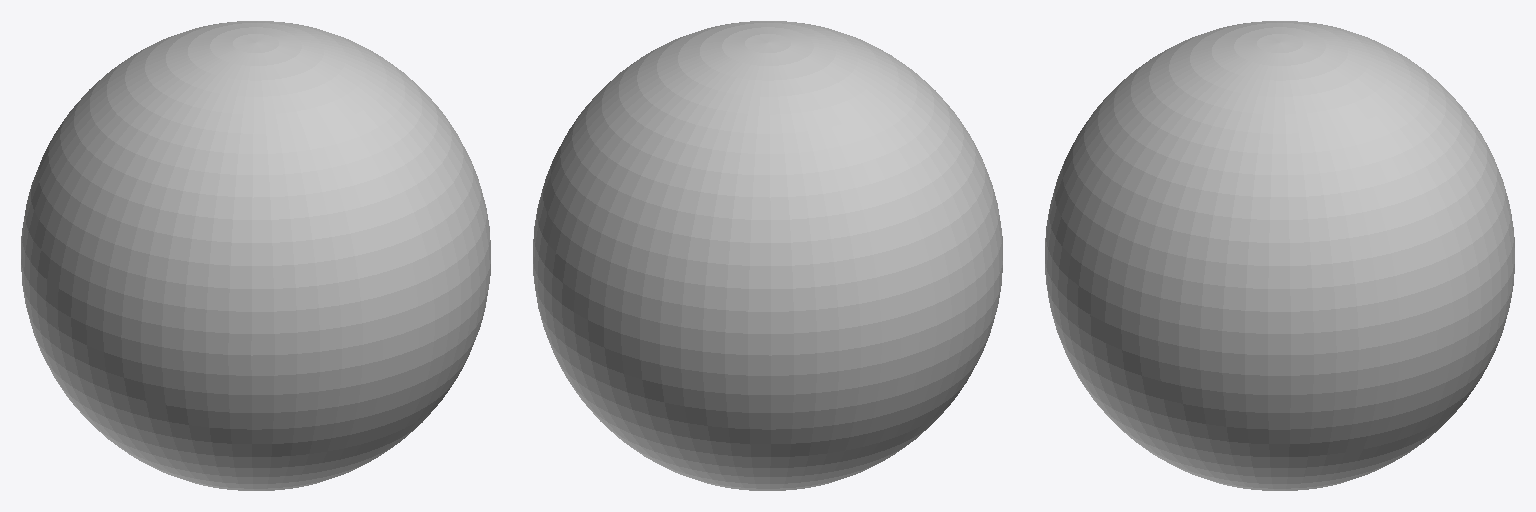
Rendered from earth.obj.
3 views of the same model, side by side, from view 1: azimuth 30°, elevation 25°; view 2: azimuth 150°, elevation 25°; view 3: azimuth 270°, elevation 25° (orthographic).
Parts seen in each view (by area): view 1: Sphere.002; view 2: Sphere.002; view 3: Sphere.002.
Part boxes in pixels (left/top/right/bottom): Sphere.002: left=21, top=21, right=490, bottom=490; Sphere.002: left=533, top=21, right=1002, bottom=490; Sphere.002: left=1045, top=21, right=1514, bottom=490.
Size of the model in its own units: 2.03 by 2.03 by 2.03.